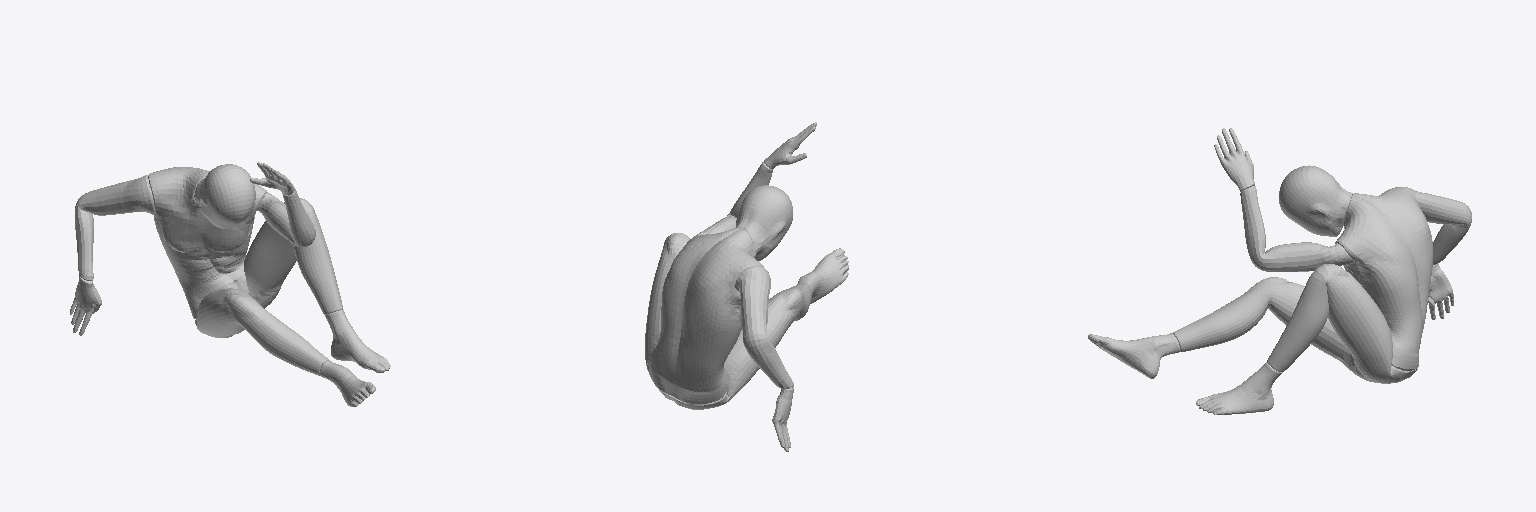
File: standup43.obj
The picture shows the model from 3 angles: view 1: azimuth 30°, elevation 25°; view 2: azimuth 150°, elevation 25°; view 3: azimuth 270°, elevation 25°; orthographic projection.
Visible parts, largest first — view 1: Ch36; view 2: Ch36; view 3: Ch36.
Boxes of the visible parts, x1=… form: Ch36: x1=70, y1=162, x2=390, y2=406; Ch36: x1=645, y1=122, x2=848, y2=451; Ch36: x1=1088, y1=128, x2=1471, y2=414.
Bounding box in the file's own units: 0.756 × 0.838 × 1.24.